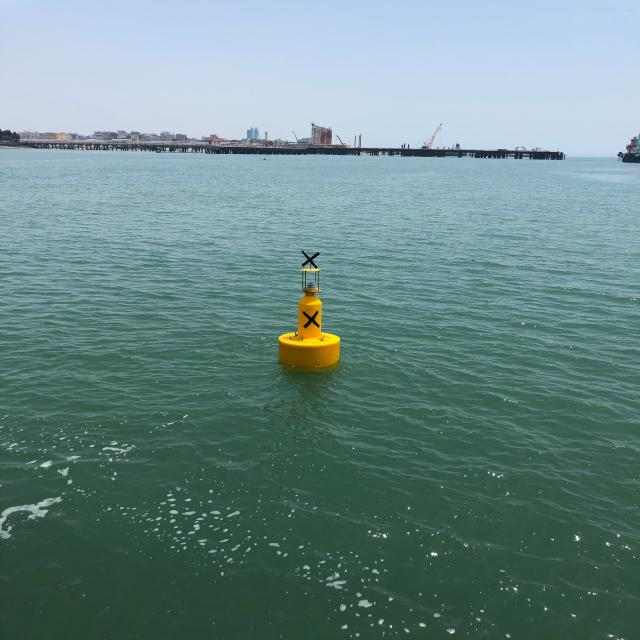buoy: (264, 246, 346, 366)
